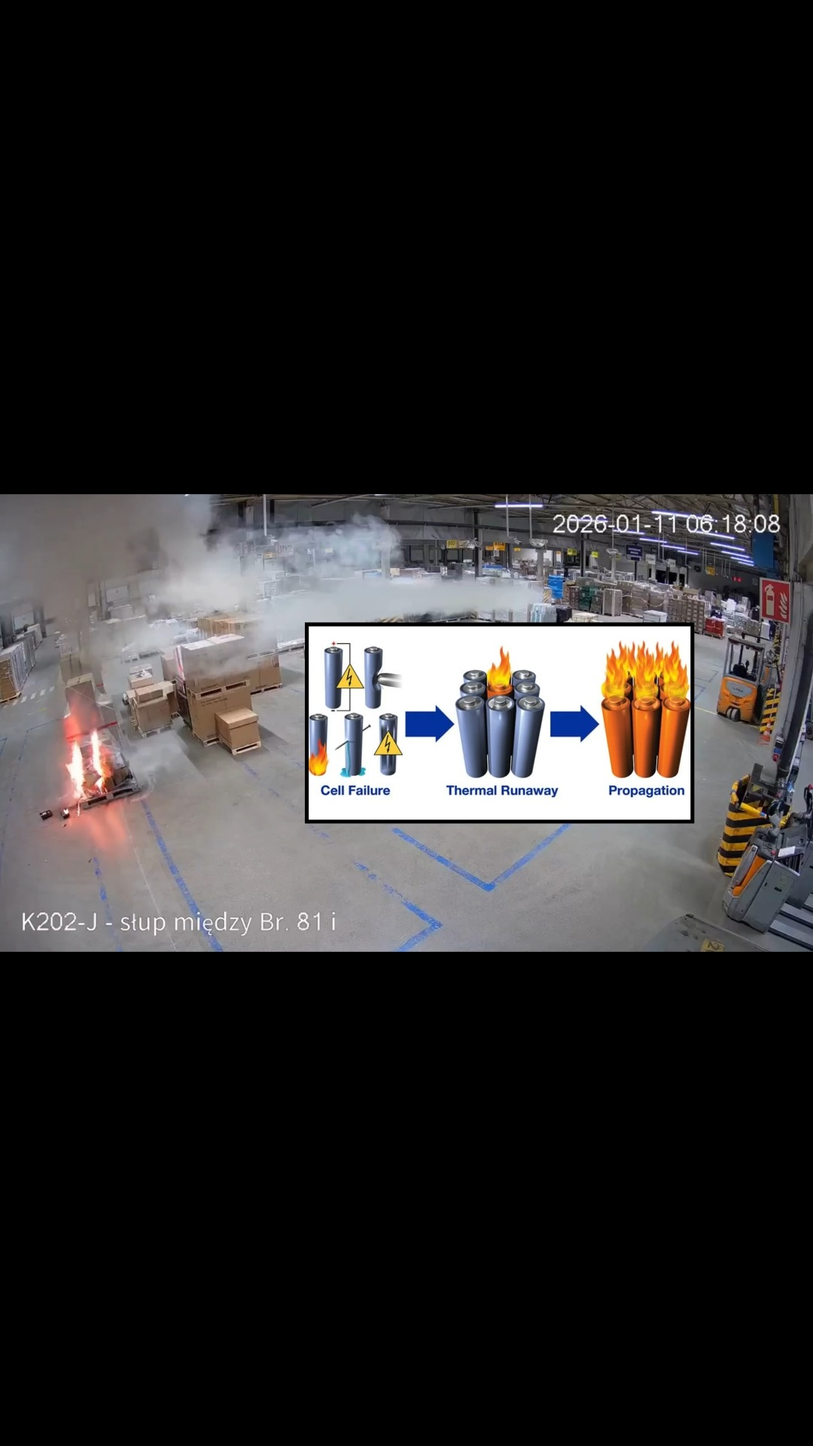fire: (62, 702, 117, 809), (600, 639, 690, 703), (486, 645, 514, 692), (309, 736, 329, 776)
smoke: (1, 496, 530, 735)
